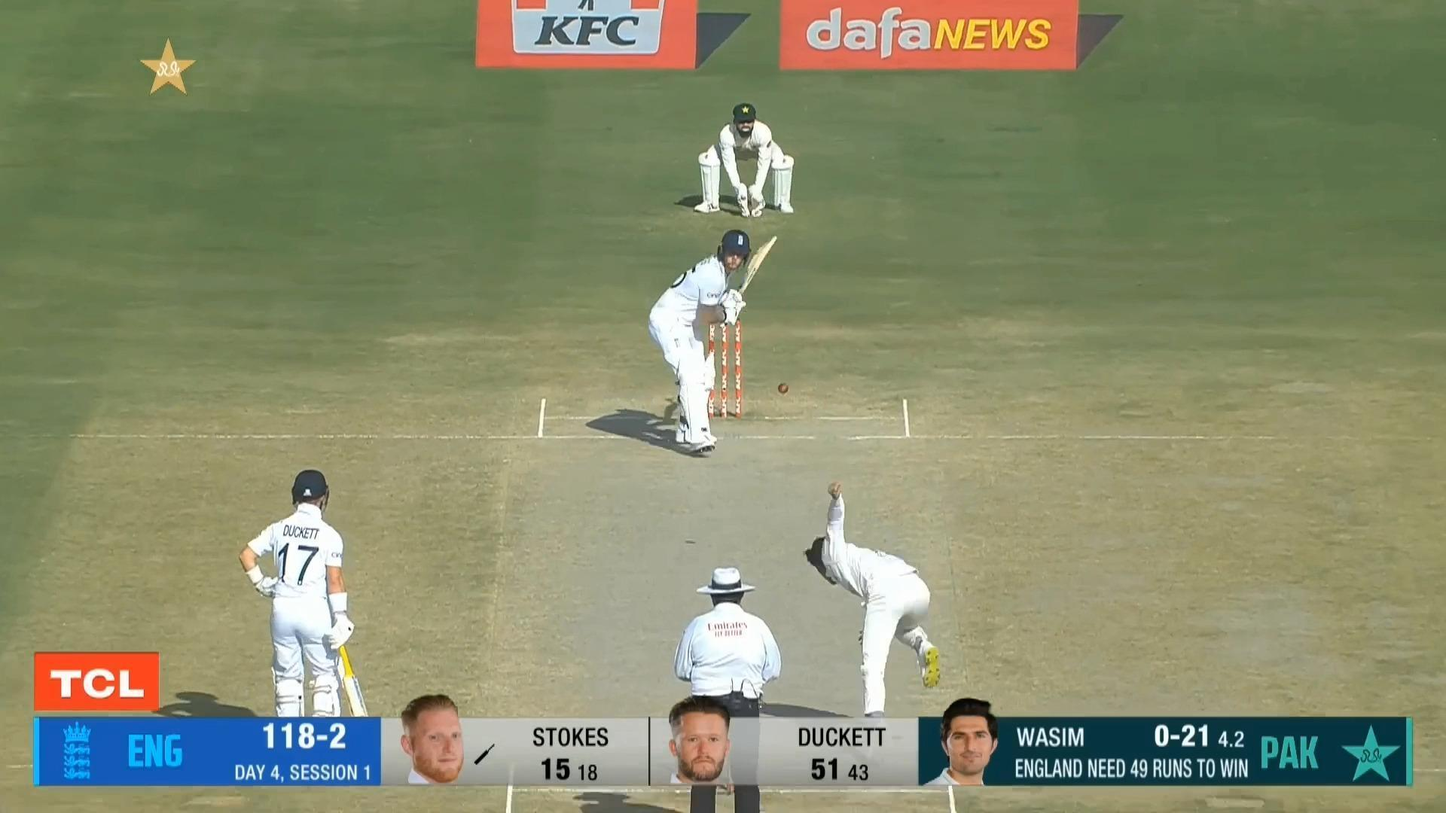BM 1: (648, 229, 777, 454)
BO: (804, 479, 944, 721)
